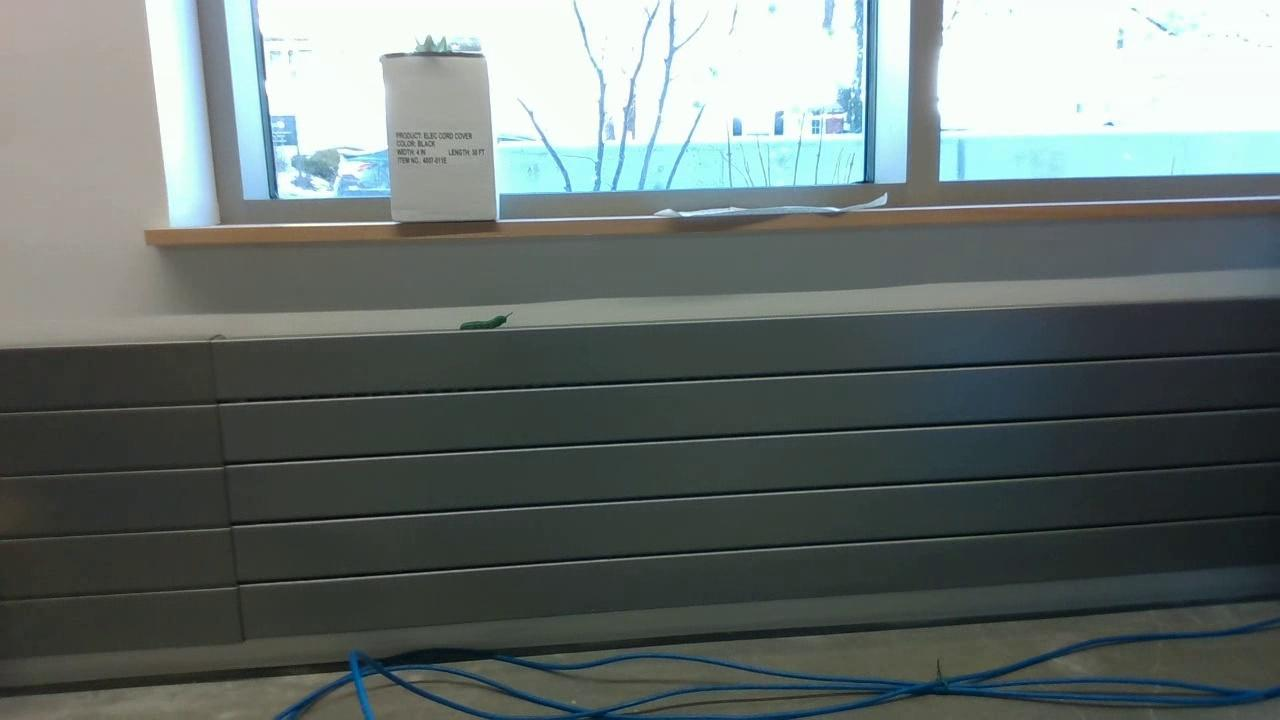grasshopper: (413, 32, 449, 53)
